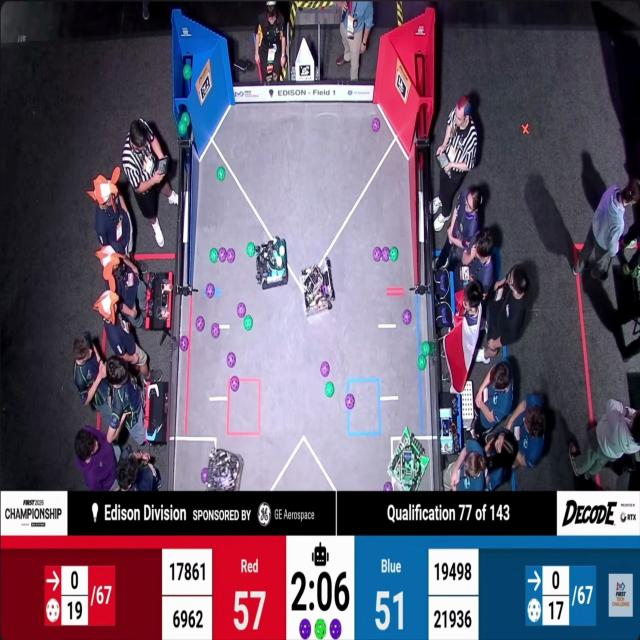artifact_green: (315, 619, 326, 639), (325, 381, 335, 398), (183, 63, 192, 81), (209, 248, 219, 264), (178, 120, 188, 135), (244, 315, 253, 331), (422, 341, 431, 356), (418, 355, 426, 371), (217, 166, 225, 181), (181, 112, 190, 125), (247, 243, 255, 257), (390, 247, 398, 261), (429, 340, 436, 355), (279, 244, 285, 257), (632, 267, 639, 278)
artifact_purple: (299, 619, 311, 639), (330, 619, 341, 639), (237, 302, 247, 318), (205, 283, 215, 298), (227, 352, 236, 367), (230, 376, 239, 391), (180, 336, 189, 351), (196, 316, 205, 331), (373, 247, 382, 262), (346, 394, 354, 410), (382, 247, 390, 262), (403, 310, 411, 325), (212, 323, 220, 338), (321, 362, 329, 377), (227, 249, 235, 263), (372, 118, 380, 132), (219, 247, 226, 262), (201, 468, 208, 483), (321, 284, 329, 295), (384, 482, 392, 491)
